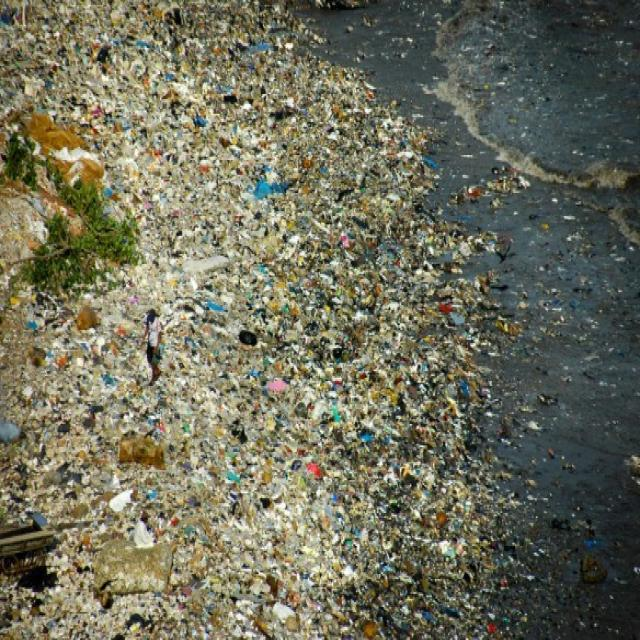plastic watse: (17, 5, 454, 636), (155, 42, 431, 633)
